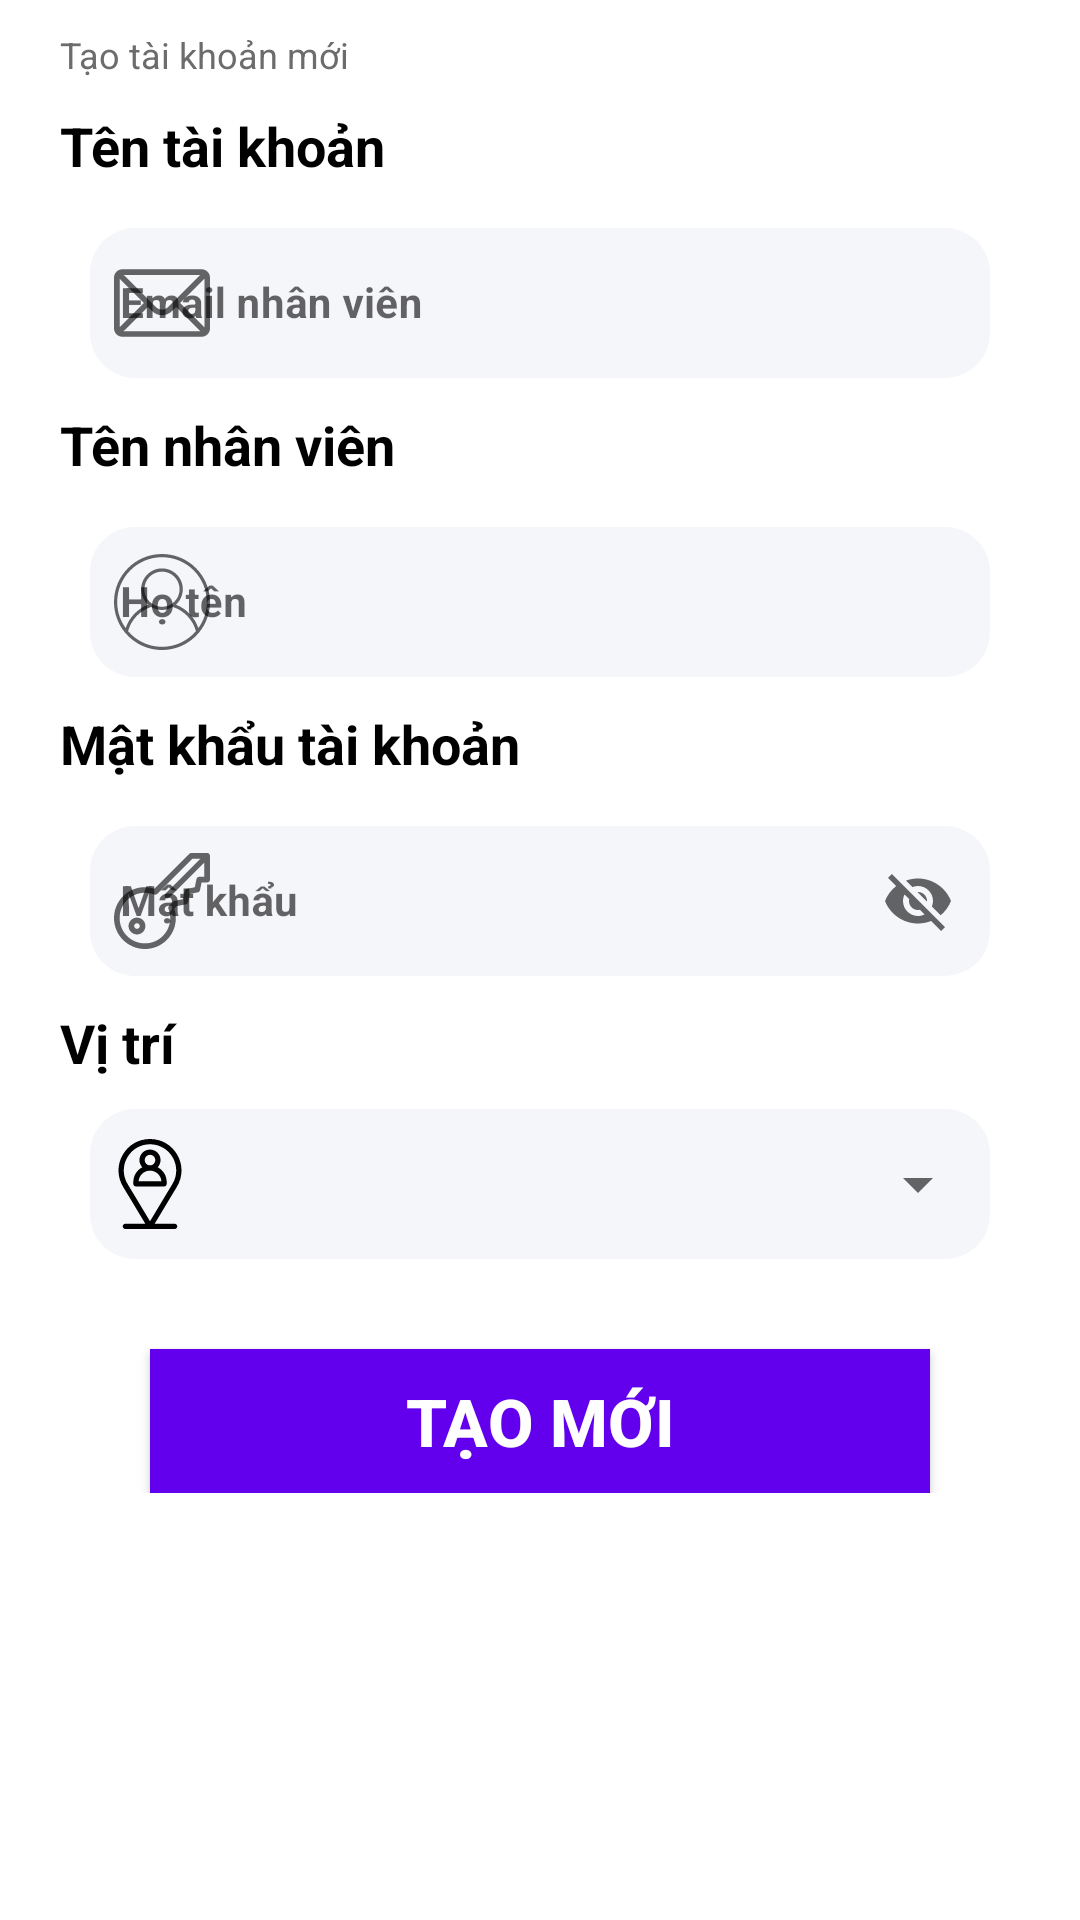

Icons on this 1080×1920 Android screen, each with the point to tap as (x,y):
position: (150,1184)
